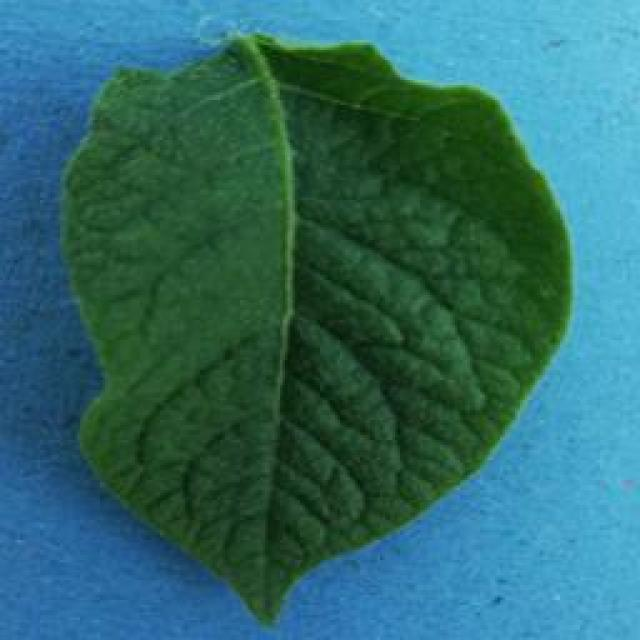Potato_Healthy: (63, 31, 572, 625)
